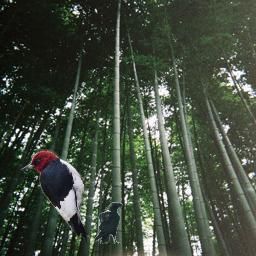Crow: (94, 202, 123, 244)
Woodpecker: (17, 149, 93, 244)
